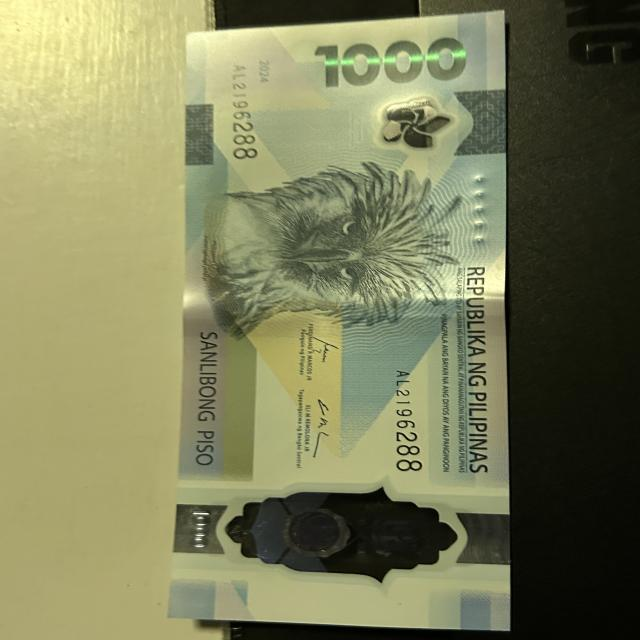clear_window: (183, 491, 507, 571)
eagle: (200, 180, 447, 324)
sampaguita: (370, 104, 458, 149)
serial_number: (220, 52, 269, 178), (386, 358, 426, 483)
